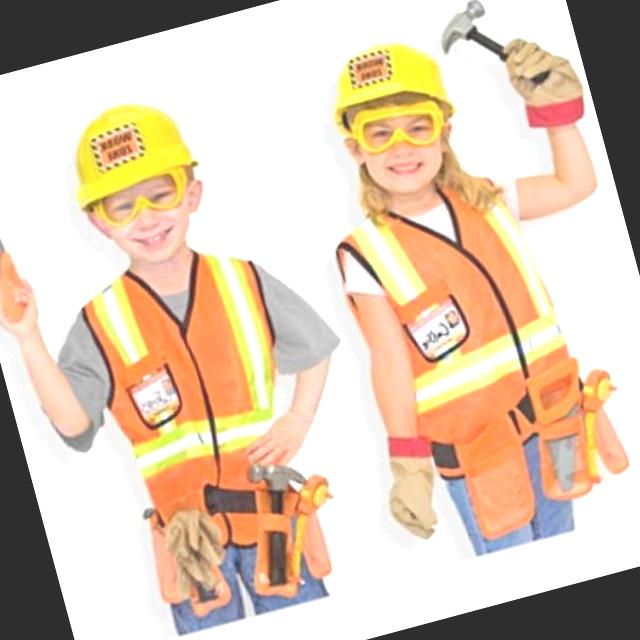gloves: (349, 396, 488, 548), (494, 13, 594, 159)
helmet: (56, 90, 206, 216), (317, 26, 460, 147)
no-gloves: (0, 247, 95, 462), (216, 367, 340, 488)
vest: (322, 164, 596, 491), (72, 238, 324, 571)
